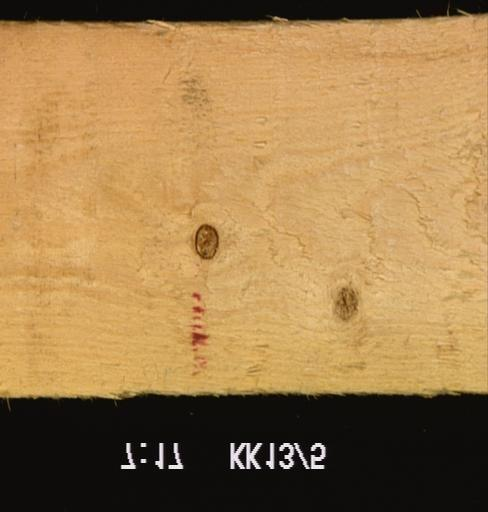dry_knot: (328, 286, 361, 324), (190, 222, 220, 260)
wave: (60, 16, 175, 46)
